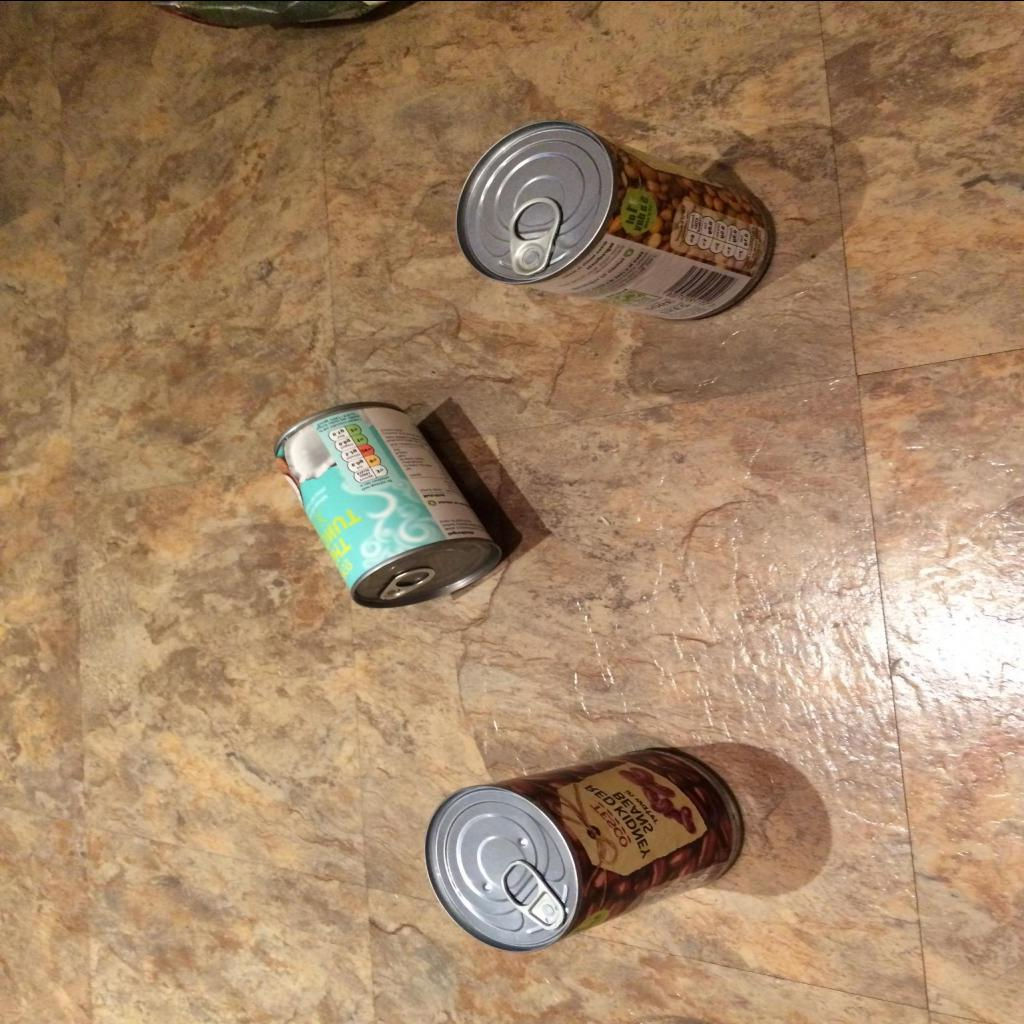Food Can: (424, 749, 742, 951), (458, 119, 774, 319), (273, 401, 502, 607)
Pop tab: (500, 859, 566, 929), (508, 196, 562, 274), (380, 566, 436, 598)
